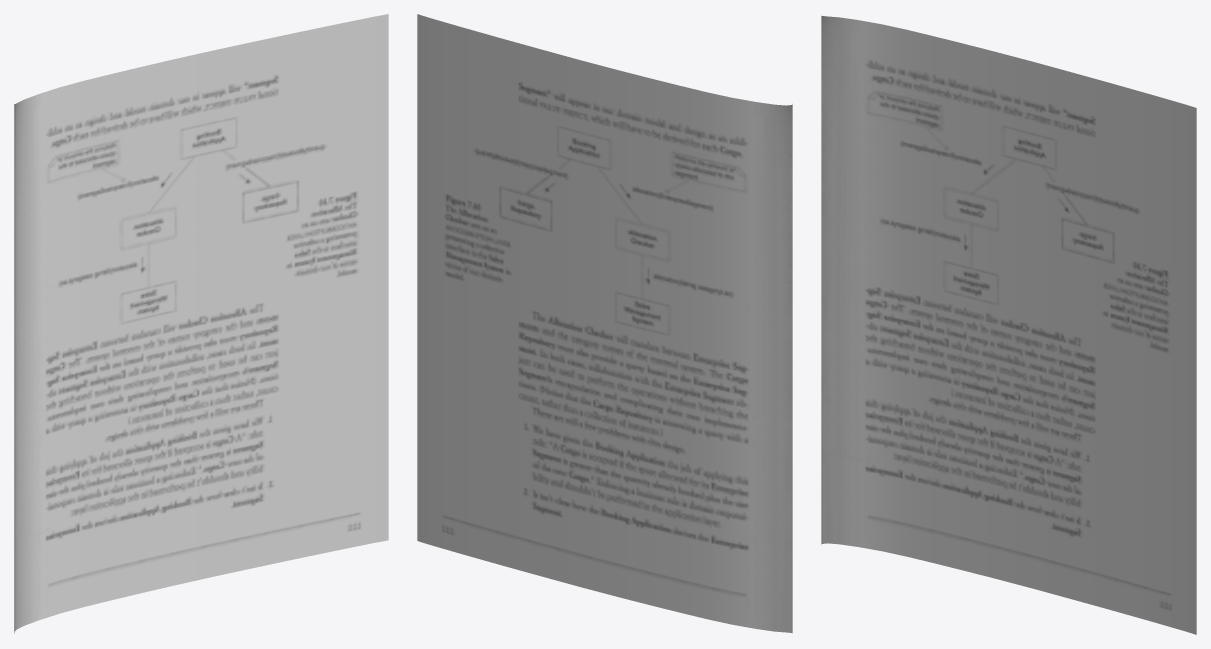
The model's file is MeshBookFront_15_1_GeomSubset_2.obj.
3 views of the same model, side by side, from view 1: azimuth 30°, elevation 25°; view 2: azimuth 150°, elevation 25°; view 3: azimuth 330°, elevation 25° (orthographic).
Parts seen in each view (by area): view 1: MeshBookFront_15_1_GeomSubset_2; view 2: MeshBookFront_15_1_GeomSubset_2; view 3: MeshBookFront_15_1_GeomSubset_2.
Boxes of the visible parts, x1,y1,x2,y2 form: MeshBookFront_15_1_GeomSubset_2: [14, 14, 388, 633]; MeshBookFront_15_1_GeomSubset_2: [417, 14, 792, 633]; MeshBookFront_15_1_GeomSubset_2: [821, 15, 1196, 634].
Bounding box in the file's own units: 0.1745 × 0.2369 × 0.0067.
